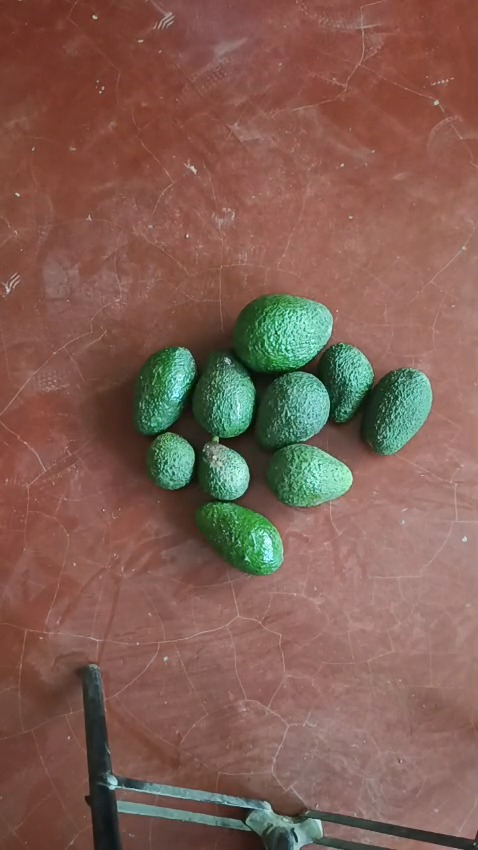Primera: (232, 293, 333, 372)
Segunda: (194, 501, 282, 574), (360, 367, 432, 454), (254, 370, 329, 450), (192, 350, 257, 439), (133, 345, 196, 434), (265, 443, 352, 507)
Tercera: (315, 341, 374, 423), (196, 438, 251, 500), (145, 431, 195, 490)
